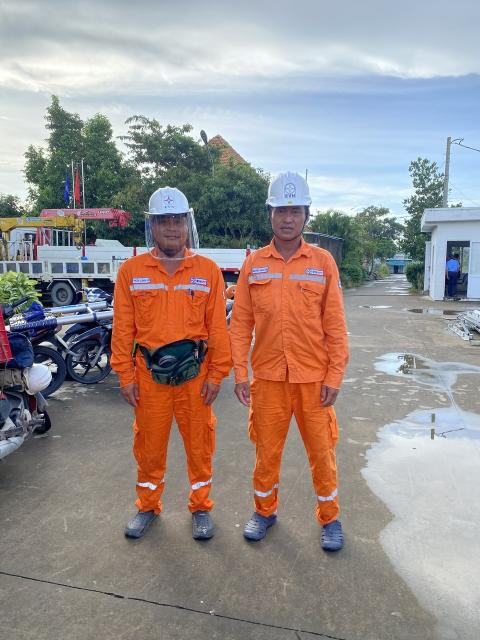helmet: (258, 155, 319, 219), (138, 178, 196, 222)
shoes: (308, 500, 354, 550), (247, 490, 275, 550), (118, 498, 162, 533), (193, 508, 222, 554)
